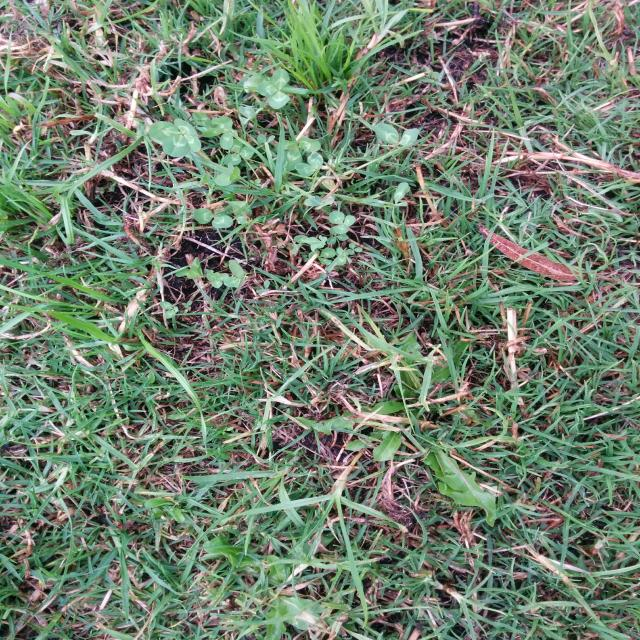Four Leaf Clover: (148, 119, 201, 157)
